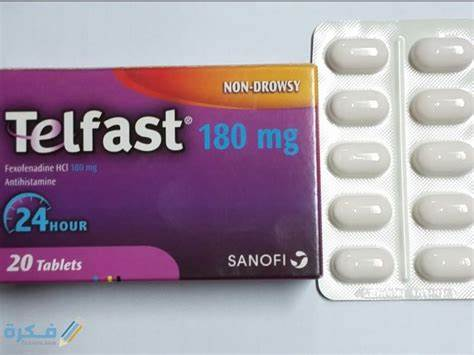Medicine: (0, 59, 326, 286)
